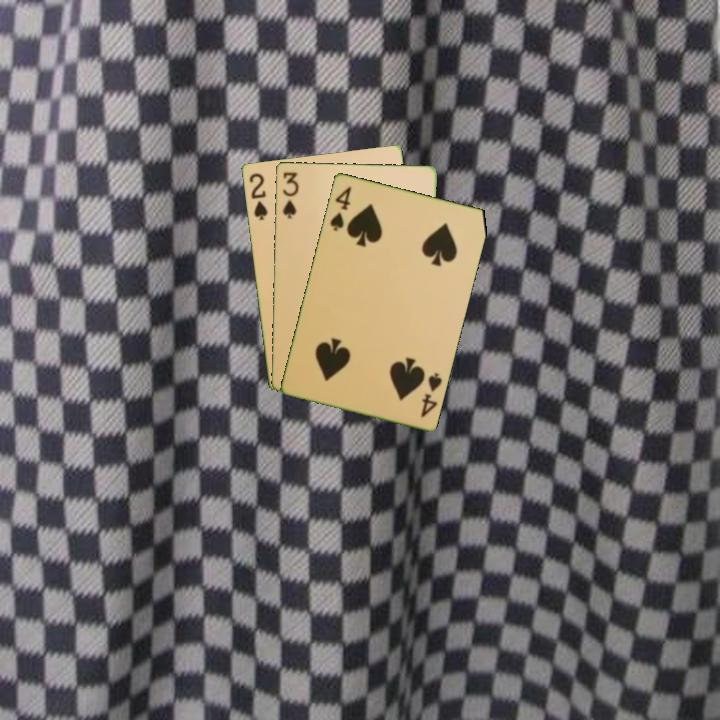2s: (246, 169, 270, 223)
3s: (279, 168, 301, 221)
4s: (417, 369, 445, 420), (326, 183, 354, 233)
